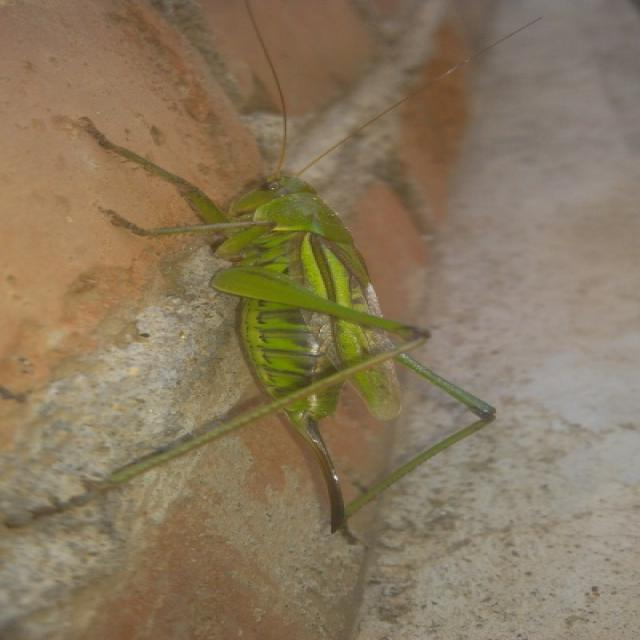ZhaMeng: (80, 72, 491, 546)
